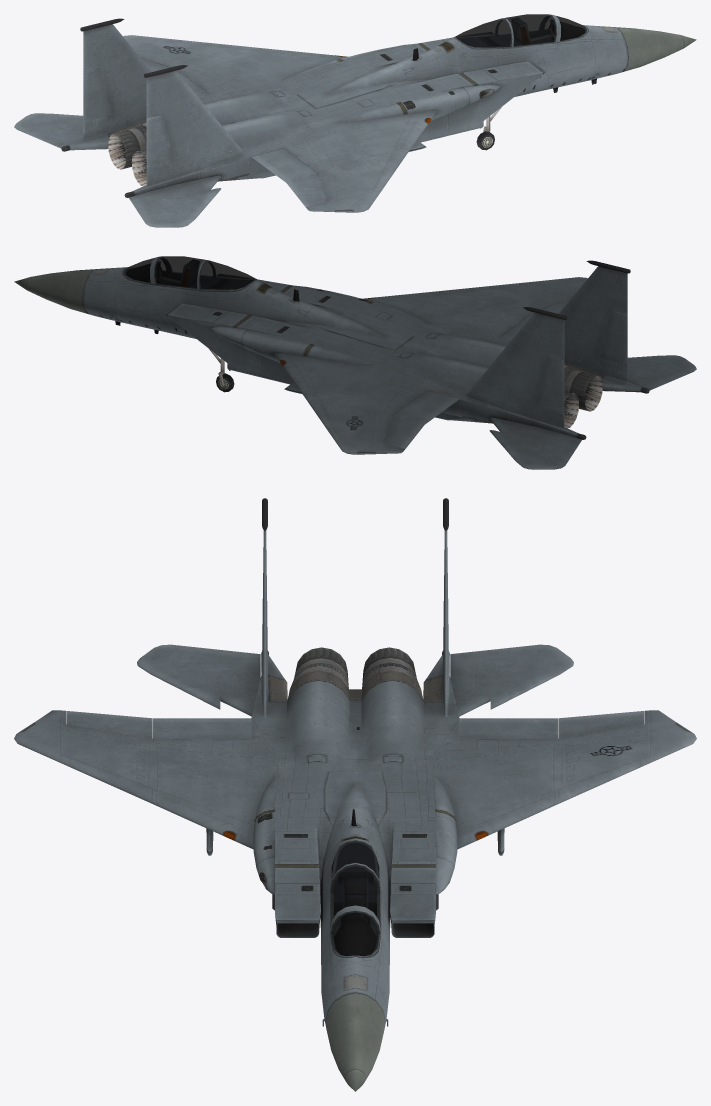
Rendered from f-15c_eagle_usa.glb.
The picture shows the model from 3 angles, top to bottom: view 1: azimuth 30°, elevation 25°; view 2: azimuth 150°, elevation 25°; view 3: azimuth 270°, elevation 25°; orthographic projection. The views are drawn at different scales.
Parts seen in each view (by area): view 1: mesh_176_mat_30_0, mesh_156_mat_19_0, mesh_177_mat_30_0; view 2: mesh_176_mat_30_0, mesh_156_mat_19_0, mesh_177_mat_30_0; view 3: mesh_176_mat_30_0, mesh_156_mat_19_0.
Boxes of the visible parts, x1,y1,x2,y2 form: mesh_176_mat_30_0: (14,14,696,227); mesh_156_mat_19_0: (455,14,586,47); mesh_177_mat_30_0: (476,107,501,150); mesh_176_mat_30_0: (14,256,696,469); mesh_156_mat_19_0: (124,256,255,289); mesh_177_mat_30_0: (209,349,234,392); mesh_176_mat_30_0: (14,498,696,1091); mesh_156_mat_19_0: (330,840,380,956).
Bounding box in the file's own units: 218 × 64.32 × 147.
2 materials, 2 textured.
